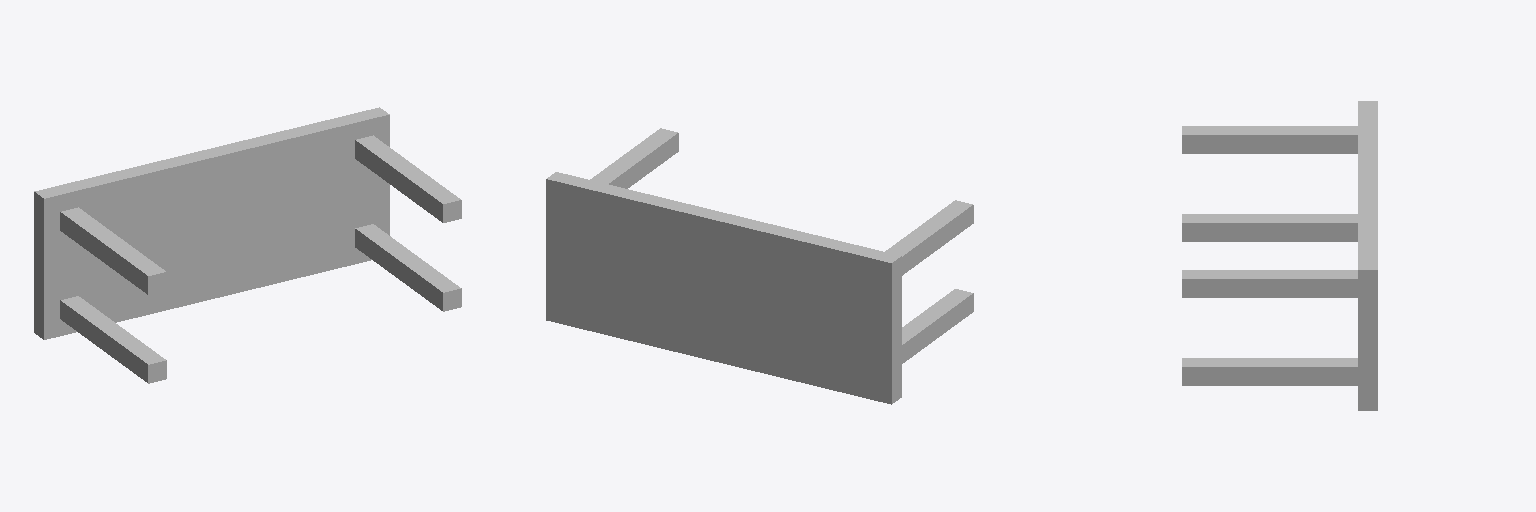
The model's file is random_table61.obj.
The picture shows the model from 3 angles: view 1: azimuth 30°, elevation 25°; view 2: azimuth 150°, elevation 25°; view 3: azimuth 270°, elevation 25°; orthographic projection.
Visible parts, largest first — view 1: Table_Cube.1370, TableLeg2_Cube.1373, TableLeg0_Cube.1371, TableLeg1_Cube.1372, TableLeg3_Cube.1374; view 2: Table_Cube.1370, TableLeg1_Cube.1372, TableLeg3_Cube.1374, TableLeg0_Cube.1371; view 3: Table_Cube.1370, TableLeg0_Cube.1371, TableLeg1_Cube.1372, TableLeg2_Cube.1373, TableLeg3_Cube.1374.
Part boxes in pixels (x1,y1,x2,y2): Table_Cube.1370: (34,107,389,339); TableLeg2_Cube.1373: (355,224,461,311); TableLeg0_Cube.1371: (355,135,461,222); TableLeg1_Cube.1372: (60,207,166,294); TableLeg3_Cube.1374: (60,296,166,383); Table_Cube.1370: (546,172,901,404); TableLeg1_Cube.1372: (885,200,973,275); TableLeg3_Cube.1374: (902,289,973,363); TableLeg0_Cube.1371: (590,128,678,188); Table_Cube.1370: (1358,101,1377,410); TableLeg0_Cube.1371: (1182,270,1357,297); TableLeg1_Cube.1372: (1182,126,1357,153); TableLeg2_Cube.1373: (1182,358,1357,385); TableLeg3_Cube.1374: (1182,214,1357,241).
Size of the model in its own units: 10.8 by 4.23 by 5.31.